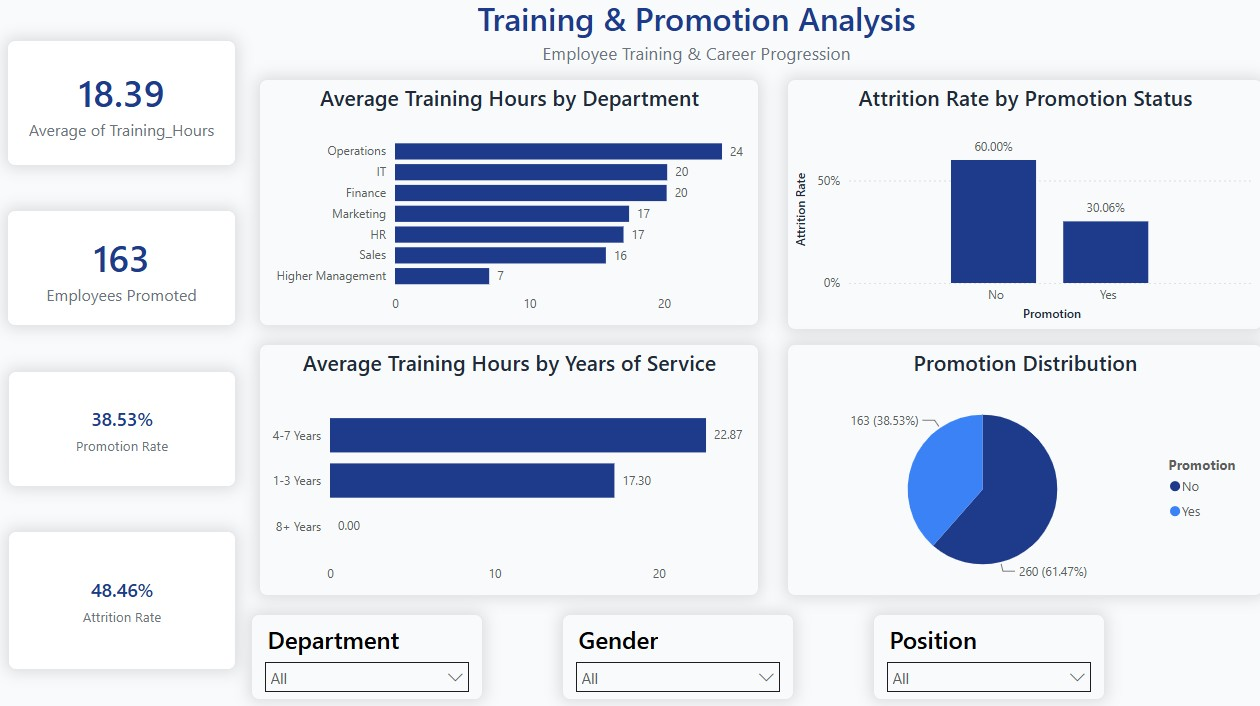

This screenshot's page, from the dashboard's own definition file:
{"tool":"powerbi","page":{"name":"Training & Promotion Analysis","canvas":[1280,720],"ordinal":4},"visuals":[{"type":"textbox","title":"Training & Promotion Analysis","box":[408,0,584,91],"z":0},{"type":"card","fields":{"Values":["Avg(hr_data_cleaned.Training_Hours)"]},"box":[10,44,229,126],"z":1000},{"type":"card","fields":{"Values":["hr_data_cleaned.Employees Promoted"]},"box":[10,214.3,229,116],"z":2000},{"type":"card","fields":{"Values":["hr_data_cleaned.Promotion Rate"]},"box":[11,374.7,228,116],"z":3000},{"type":"card","fields":{"Values":["hr_data_cleaned.Attrition Rate"]},"box":[11,535,228,139],"z":4000},{"type":"clusteredBarChart","title":"Average Training Hours by Department","fields":{"Category":["hr_analytics hr_data_cleaned.Department"],"Y":["hr_data_cleaned.Average Training Hours"]},"box":[262,83,500,247],"z":5000},{"type":"clusteredColumnChart","title":"Attrition Rate by Promotion Status","fields":{"Category":["hr_data_cleaned.Promotion"],"Y":["hr_data_cleaned.Attrition Rate"]},"box":[790,83,476,251],"z":6000},{"type":"clusteredBarChart","title":"Average Training Hours by Years of Service","fields":{"Category":["hr_data_cleaned.Tenure Group"],"Y":["Avg(hr_data_cleaned.Training_Hours)"]},"box":[262,348,500,252],"z":7000},{"type":"pieChart","title":"Promotion Distribution","fields":{"Category":["hr_data_cleaned.Promotion"],"Y":["CountNonNull(hr_data_cleaned.Employee_ID)"]},"box":[790,348,476,252],"z":8000},{"type":"slicer","fields":{"Values":["hr_analytics hr_data_cleaned.Department"]},"box":[253.9,617.5,232.1,86.1],"z":9000},{"type":"slicer","fields":{"Values":["hr_analytics hr_data_cleaned.Gender"]},"box":[564.9,617.5,232.1,86.1],"z":10000},{"type":"slicer","fields":{"Values":["hr_analytics hr_data_cleaned.Position"]},"box":[876,617.5,232.1,86.1],"z":11000}]}

Visuals, with their boxes in screenshot pixels (x1, y1, x2, y2), scaled from the page's 1280x720 canvas onto the 1260x706 screenshot:
"Training & Promotion Analysis" textbox: detection(402, 0, 976, 89)
card - Avg(hr_data_cleaned.Training_Hours): detection(10, 43, 235, 167)
card - hr_data_cleaned.Employees Promoted: detection(10, 210, 235, 324)
card - hr_data_cleaned.Promotion Rate: detection(11, 367, 235, 481)
card - hr_data_cleaned.Attrition Rate: detection(11, 525, 235, 661)
"Average Training Hours by Department" clusteredBarChart: detection(258, 81, 750, 324)
"Attrition Rate by Promotion Status" clusteredColumnChart: detection(778, 81, 1246, 328)
"Average Training Hours by Years of Service" clusteredBarChart: detection(258, 341, 750, 588)
"Promotion Distribution" pieChart: detection(778, 341, 1246, 588)
slicer - hr_analytics hr_data_cleaned.Department: detection(250, 605, 478, 690)
slicer - hr_analytics hr_data_cleaned.Gender: detection(556, 605, 785, 690)
slicer - hr_analytics hr_data_cleaned.Position: detection(862, 605, 1091, 690)
